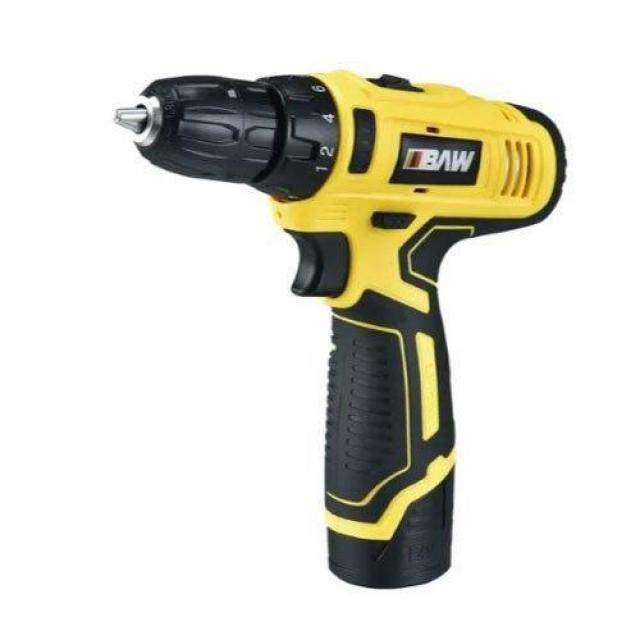drill: (113, 70, 569, 590)
